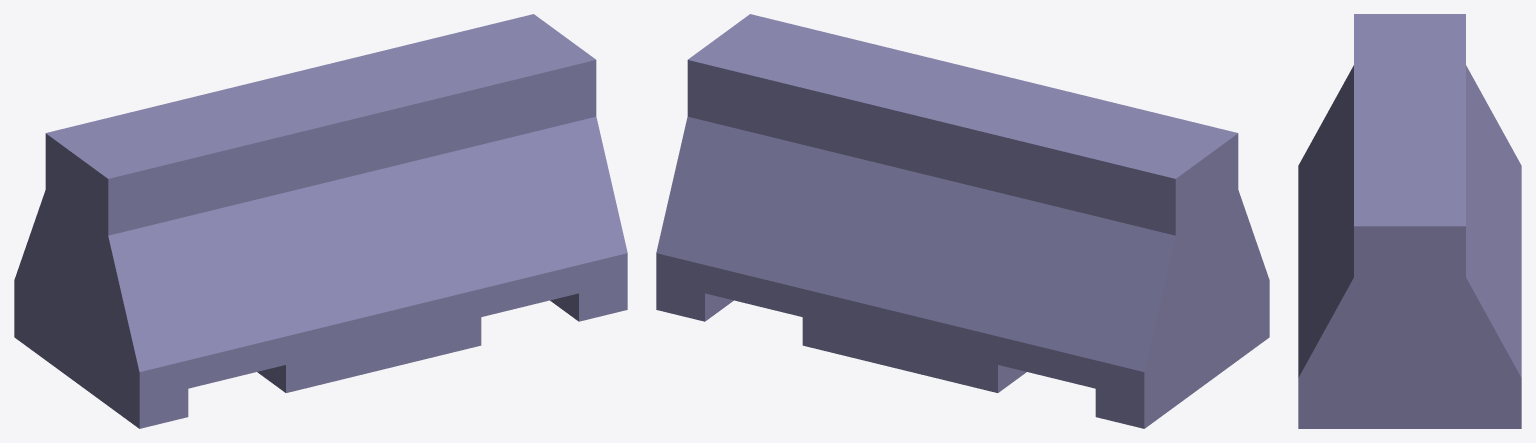
The model's file is roadBlockShort.fbx.
The picture shows the model from 3 angles, left to right: view 1: azimuth 30°, elevation 25°; view 2: azimuth 150°, elevation 25°; view 3: azimuth 270°, elevation 25°; orthographic projection. The views are drawn at different scales.
Parts seen in each view (by area): view 1: detail_roadBlock; view 2: detail_roadBlock; view 3: detail_roadBlock.
Part boxes in pixels (left/top/right/bottom): detail_roadBlock: left=14, top=14, right=627, bottom=428; detail_roadBlock: left=656, top=14, right=1269, bottom=428; detail_roadBlock: left=1298, top=14, right=1521, bottom=428.
Bounding box in the file's own units: 9 × 4 × 4.
